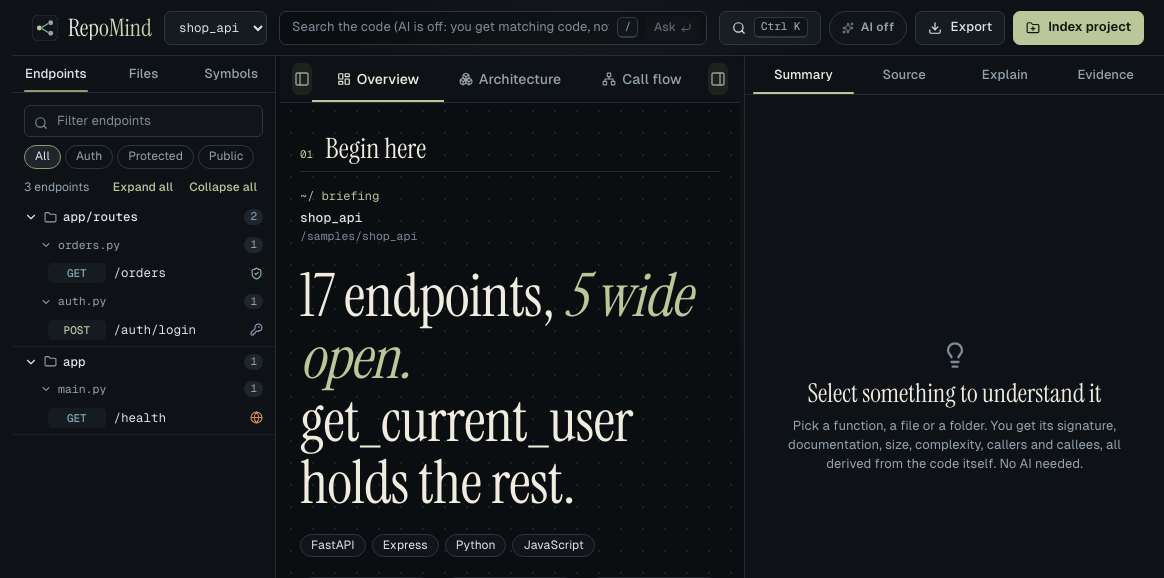
Test: Architecture map › shows folders, and double-click drills into one
Expected: the heading "shop_api" is shown, [300,209,362,226]
Click the tab "Architecture": (510, 79) [444,56,576,102]
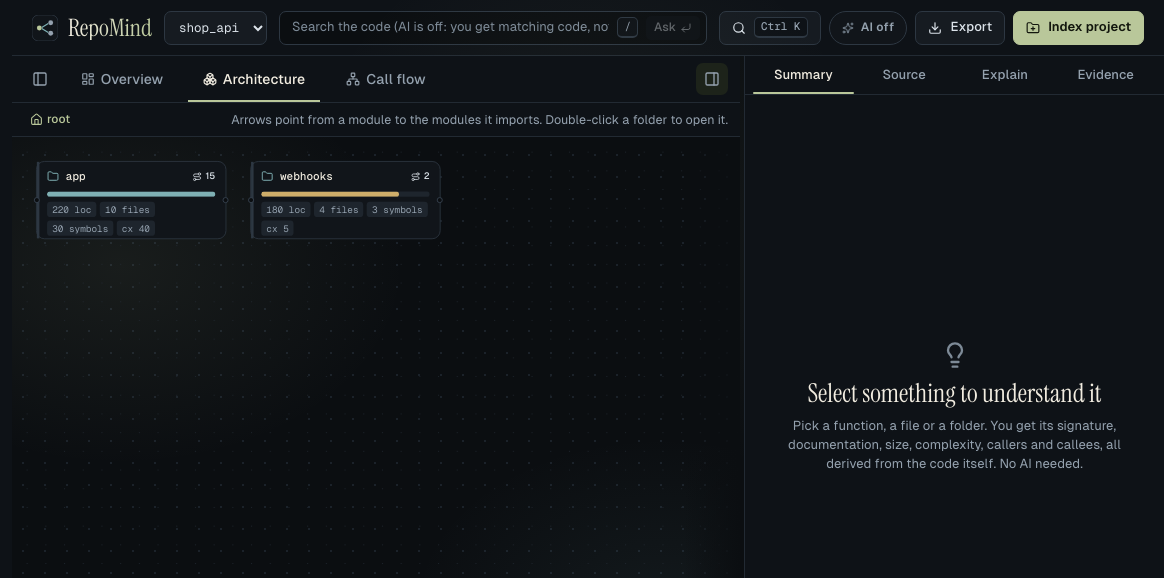
Expected: the text "webhooks" is shown, [280,169,333,185]
Double-click the text "app": (76, 177) [66,169,86,185]
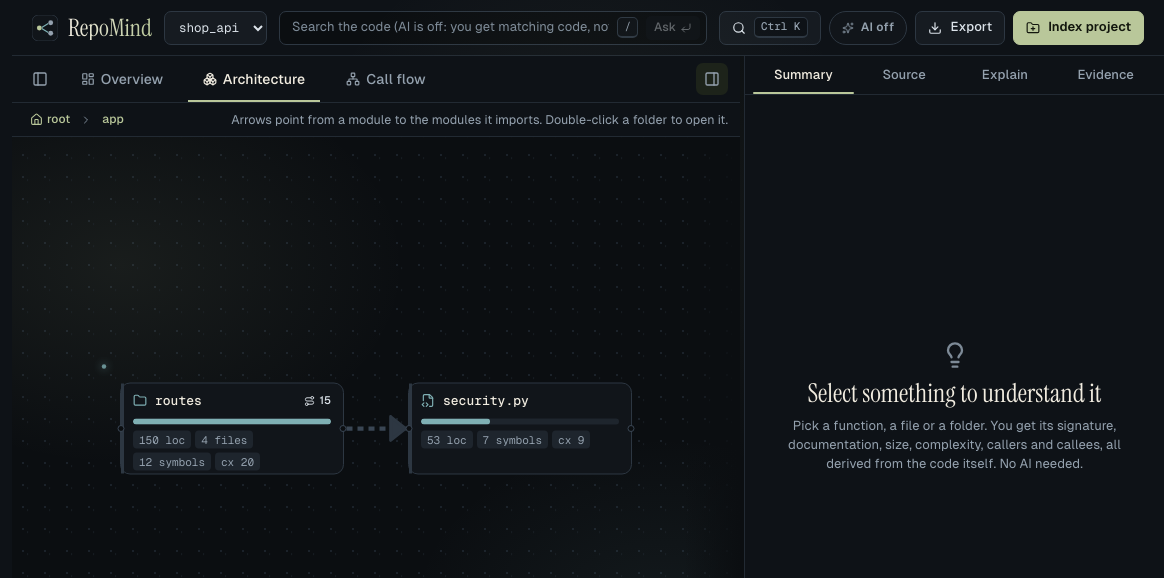
Expected: the text "security.py" is shown, [443,392,529,411]
Expected: the navigation bar named "Folder path" shows "app", [96,109,130,130]
